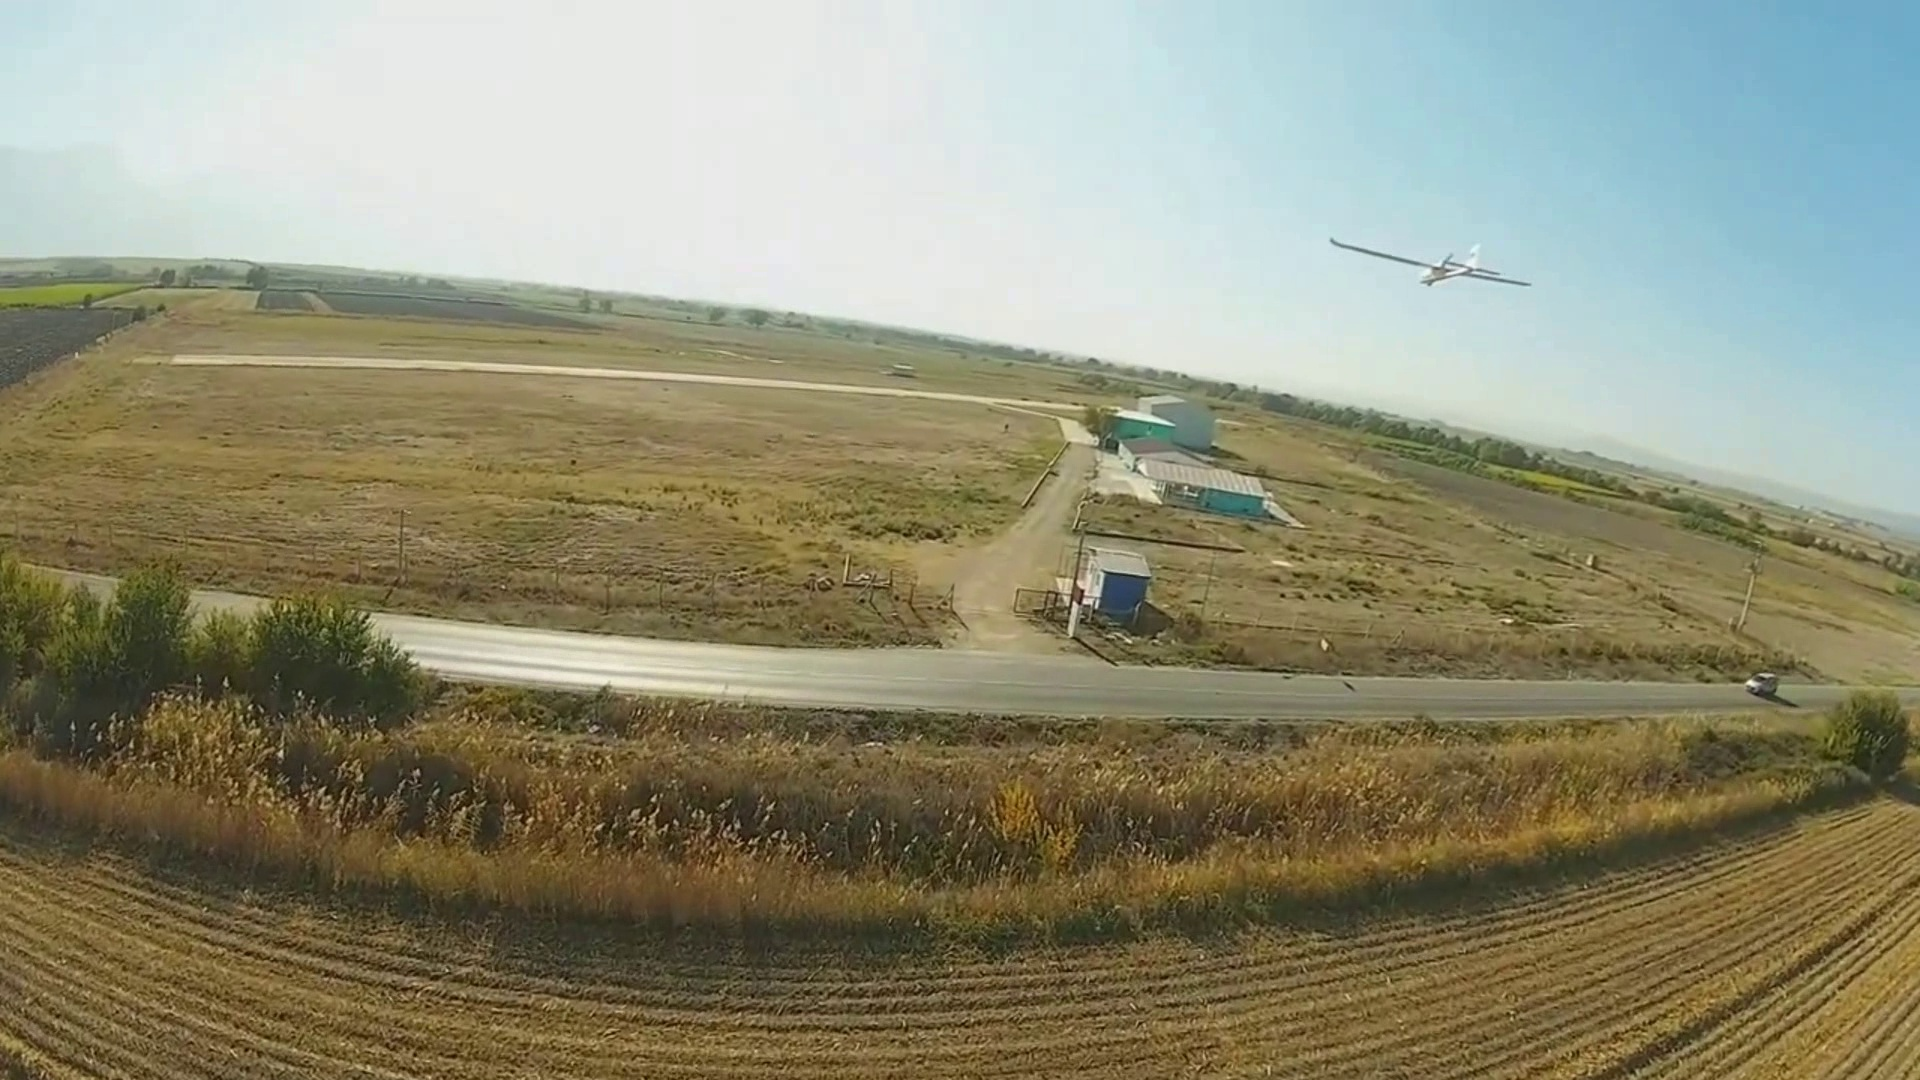airplane: (1325, 228, 1532, 291)
